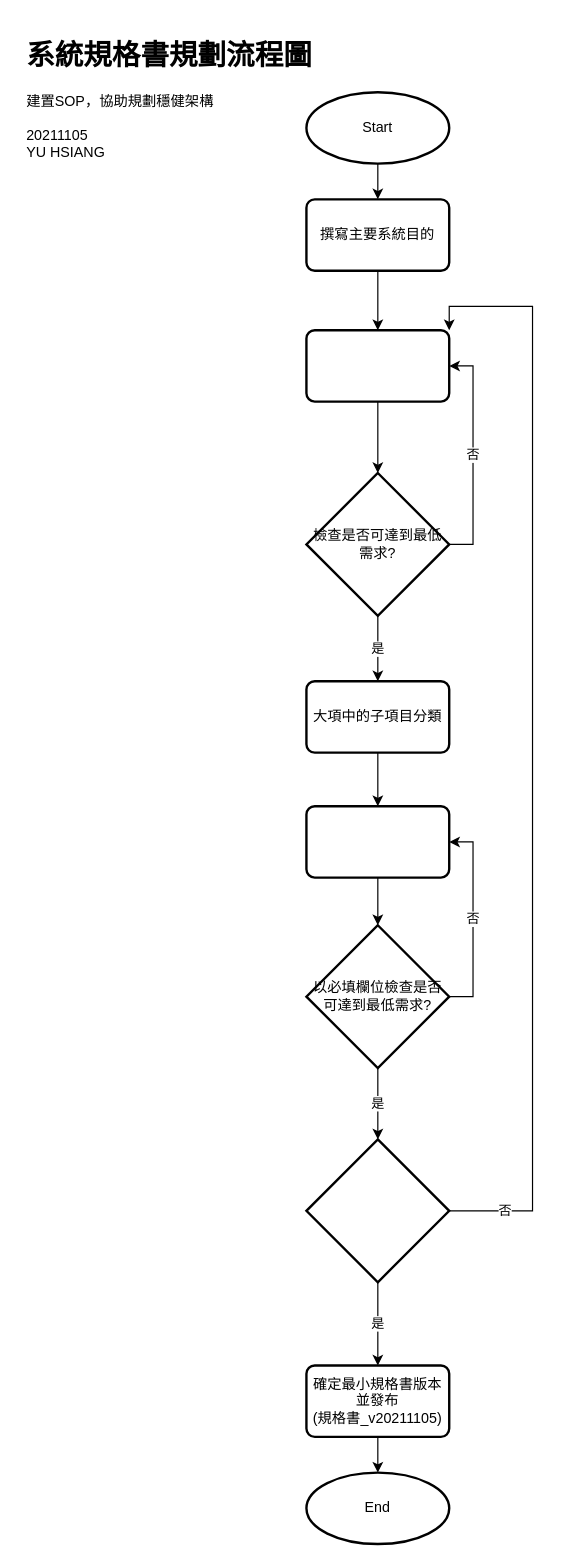
Image size: 563x1565. Some labels were removed from this diagram. The shapes that lost their labels are listed below. From the top down, each one's centre as x and y in pixels, then its label:
At (377,365): "建立出需要功能大項".
At (377,841): "規劃資料格式 讀、寫".
At (377,1210): "搭配使用者案例圖兜兜看沒問題?".
